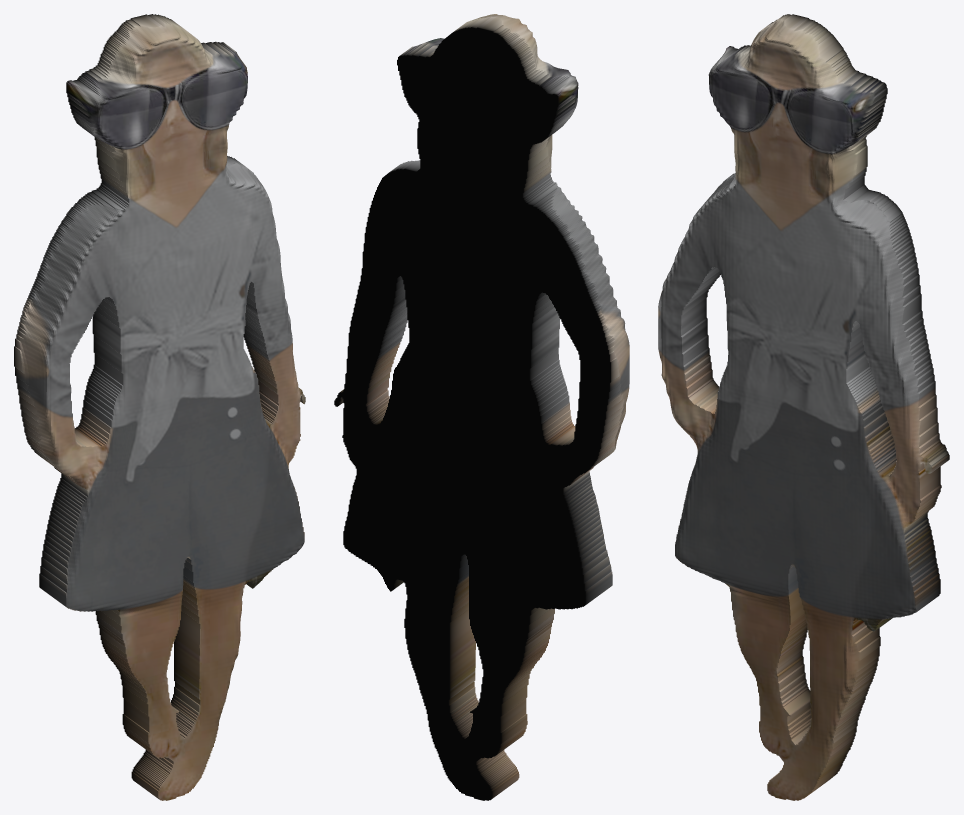
Rendered from avatar_20260409_101648.glb.
3 renders of one model, left to right at view 1: azimuth 30°, elevation 25°; view 2: azimuth 150°, elevation 25°; view 3: azimuth 330°, elevation 25°, orthographic.
Parts seen in each view (by area): view 1: world; view 2: world; view 3: world.
Part boxes in pixels (x1,y1,x2,y2): world: (14, 14, 305, 800); world: (334, 14, 629, 800); world: (658, 14, 949, 800).
Bounding box in the file's own units: 0.6986 × 1.86 × 0.1328.
